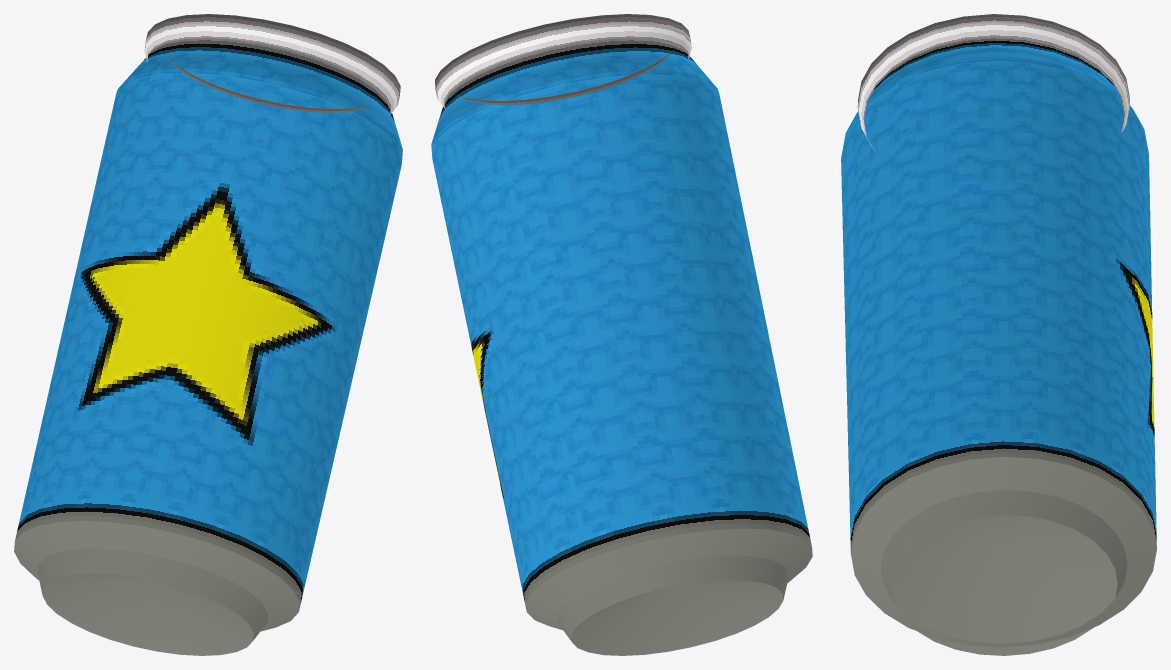
Rendered from ps2_save-icons_cartoonnetworkracing.glb.
3 renders of one model, left to right at view 1: azimuth 30°, elevation 25°; view 2: azimuth 150°, elevation 25°; view 3: azimuth 270°, elevation 25°, orthographic. The views are drawn at different scales.
Parts seen in each view (by area): view 1: iconlst.icn; view 2: iconlst.icn; view 3: iconlst.icn.
Part boxes in pixels (x1=…): iconlst.icn: x1=14, y1=14, x2=402, y2=655; iconlst.icn: x1=431, y1=14, x2=812, y2=655; iconlst.icn: x1=841, y1=14, x2=1156, y2=655.
Bounding box in the file's own units: 1.19 × 1.89 × 0.8992.
1 material, 1 textured.
